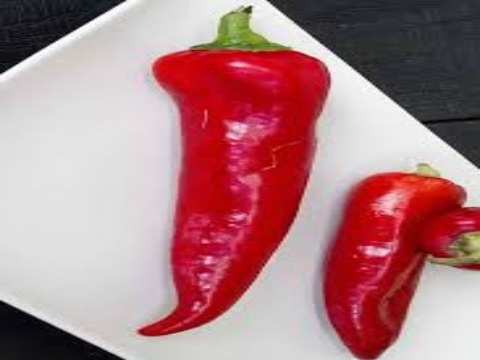Chilli: (134, 2, 332, 354)
